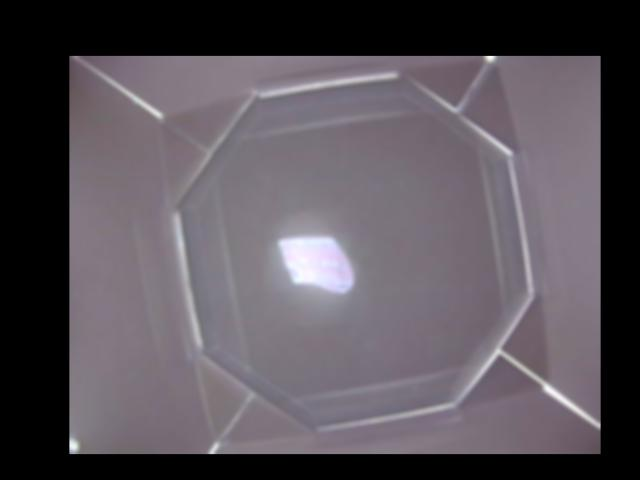China: (277, 230, 353, 297)
